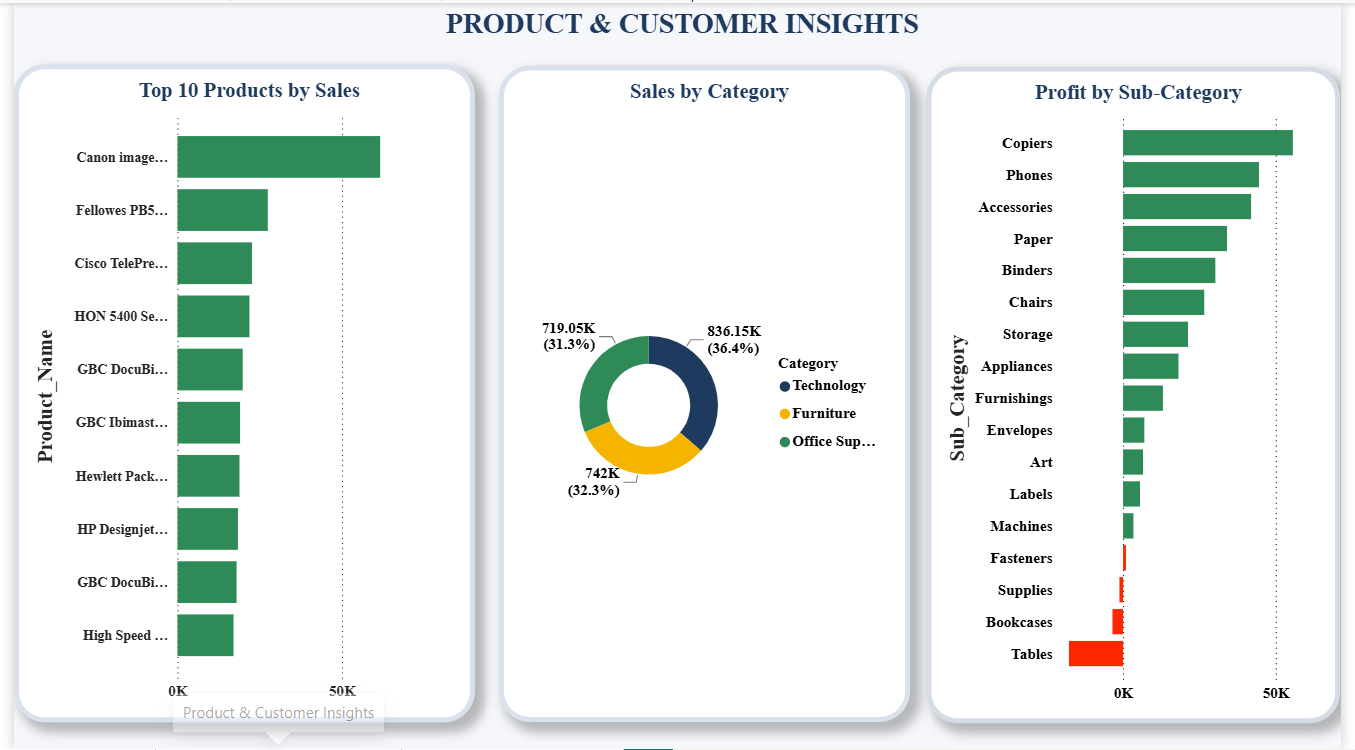

Layout of this report page (visuals, bound fields, positions):
{"tool":"powerbi","page":{"name":"Product & Customer Insights","canvas":[1280,720],"ordinal":1},"visuals":[{"type":"textbox","box":[9.6,0,1270.7,60.4],"z":0},{"type":"clusteredBarChart","title":"Top 10 Products by Sales","fields":{"Category":["sales_dashboard_analysis superstore.Product_Name"],"Y":["Sum(sales_dashboard_analysis superstore.Sales)"]},"box":[0,59,444.6,635.3],"z":1000},{"type":"donutChart","title":"Sales by Category","fields":{"Category":["sales_dashboard_analysis superstore.Category"],"Y":["Sum(sales_dashboard_analysis superstore.Sales)"]},"box":[467.9,60.4,396.6,634],"z":2000},{"type":"clusteredBarChart","title":"Profit by Sub-Category","fields":{"Category":["sales_dashboard_analysis superstore.Sub_Category"],"Y":["Sum(sales_dashboard_analysis superstore.Profit)"]},"box":[881,61.7,399.3,634],"z":3000}]}

Visuals, with their boxes in screenshot pixels (x1, y1, x2, y2), scaled from the page's 1280x720 canvas onto the 1355x750 screenshot:
textbox: (10, 0, 1354, 63)
"Top 10 Products by Sales" clusteredBarChart: (0, 61, 471, 723)
"Sales by Category" donutChart: (495, 63, 915, 723)
"Profit by Sub-Category" clusteredBarChart: (933, 64, 1354, 725)
